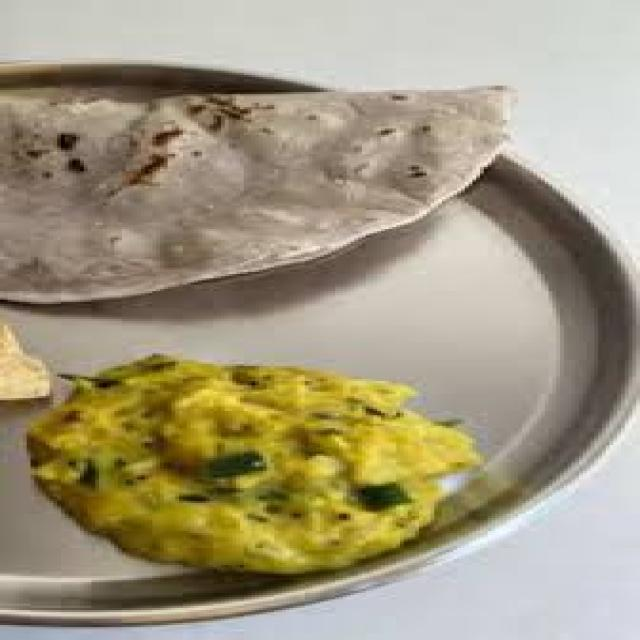DHOKLA: (30, 357, 476, 567)
RICE BHAKRI: (0, 86, 510, 302)
